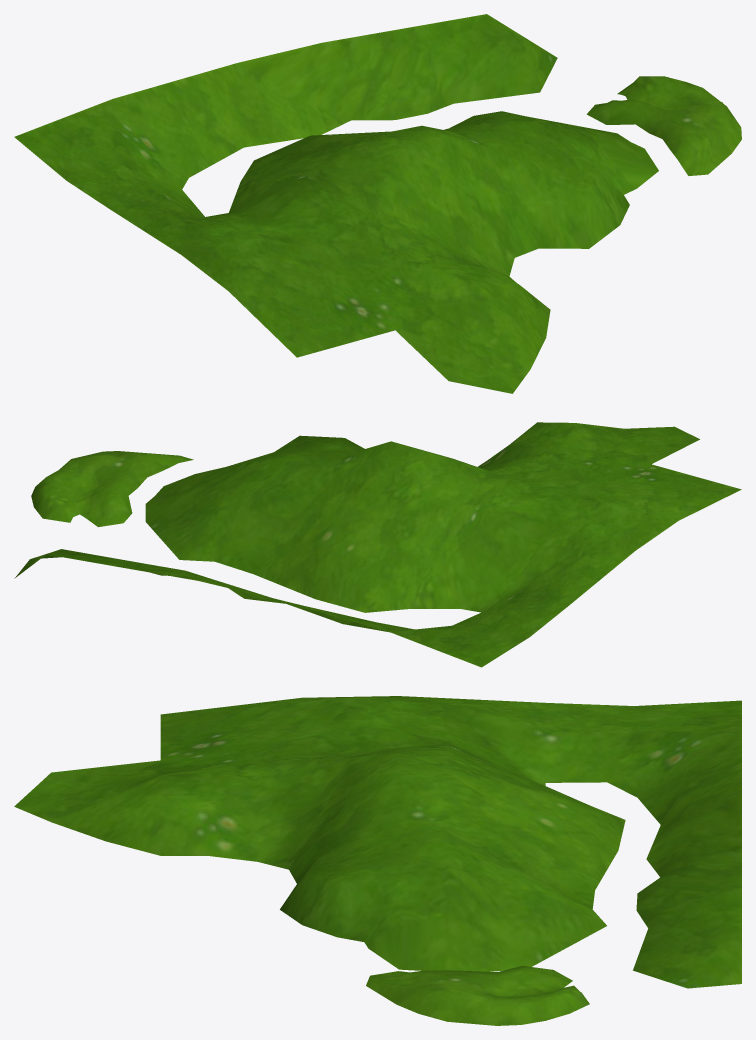
The model's file is Amazon01_Terrain04.FBX.
The picture shows the model from 3 angles, top to bottom: view 1: azimuth 30°, elevation 25°; view 2: azimuth 150°, elevation 25°; view 3: azimuth 270°, elevation 25°; orthographic projection. The views are drawn at different scales.
Visible parts, largest first — view 1: Amazon01_Terrain04; view 2: Amazon01_Terrain04; view 3: Amazon01_Terrain04.
Boxes of the visible parts, x1,y1,x2,y2 form: Amazon01_Terrain04: (14,14,741,393); Amazon01_Terrain04: (14,422,741,667); Amazon01_Terrain04: (14,696,741,1025).
Size of the model in its own units: 8265 by 1251 by 8544.
